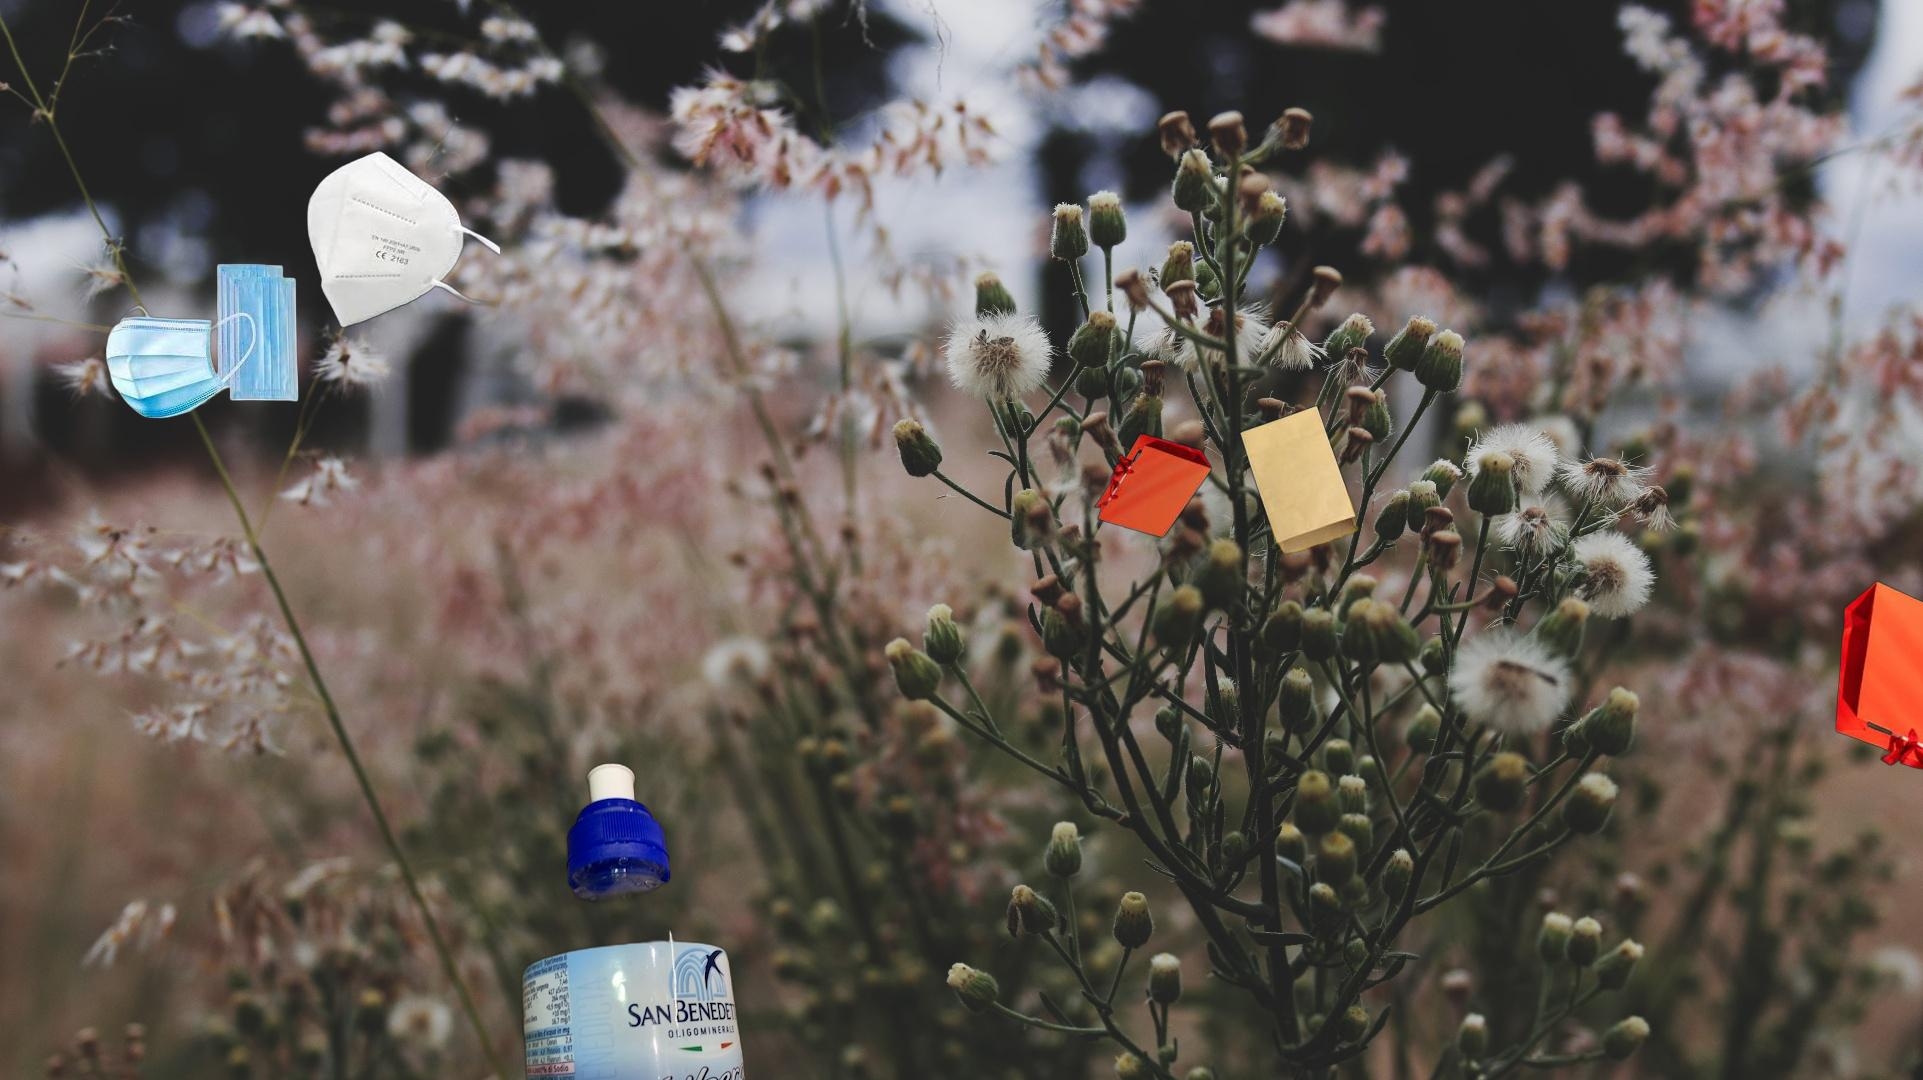paper-bag: (1083, 404, 1383, 658), (1835, 578, 1923, 793)
plastic-bottles: (518, 759, 755, 1080)
trash: (304, 148, 501, 330), (103, 261, 301, 421)
